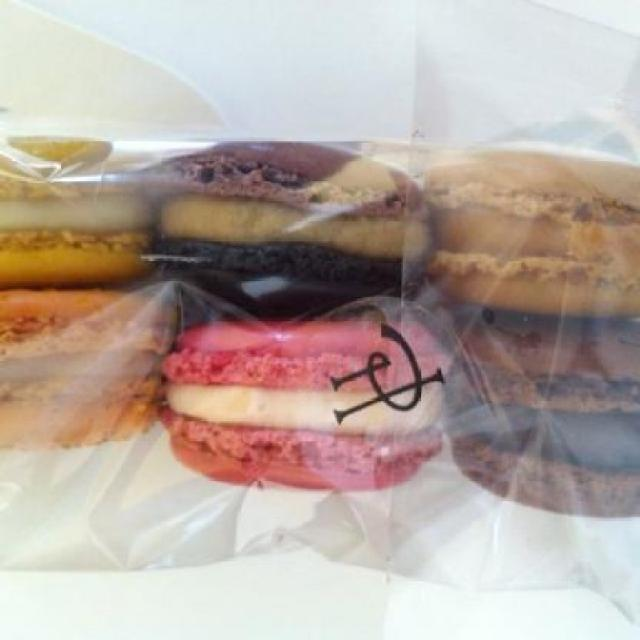Macaron: (2, 130, 640, 524)
